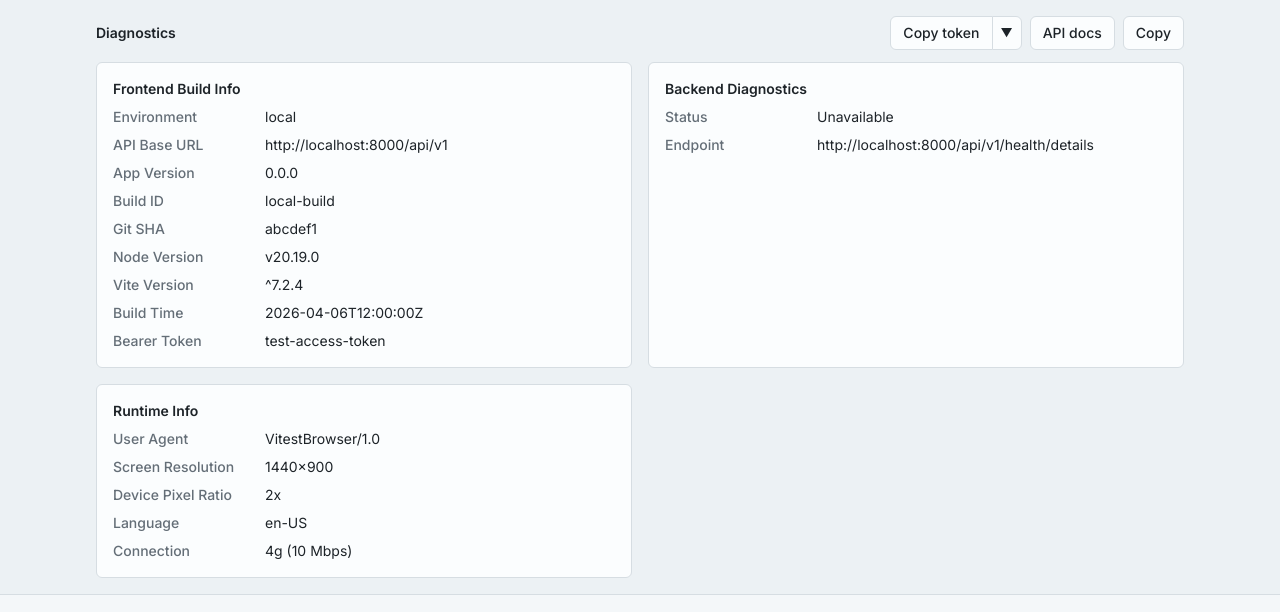
Test: ColophonPanel › requests the configured audience for displayed and copied tokens
expect the text "test-access-token" is shown: met, box [265, 332, 386, 349]
Click the button "Copy token" at (941, 33), box [890, 16, 992, 50]
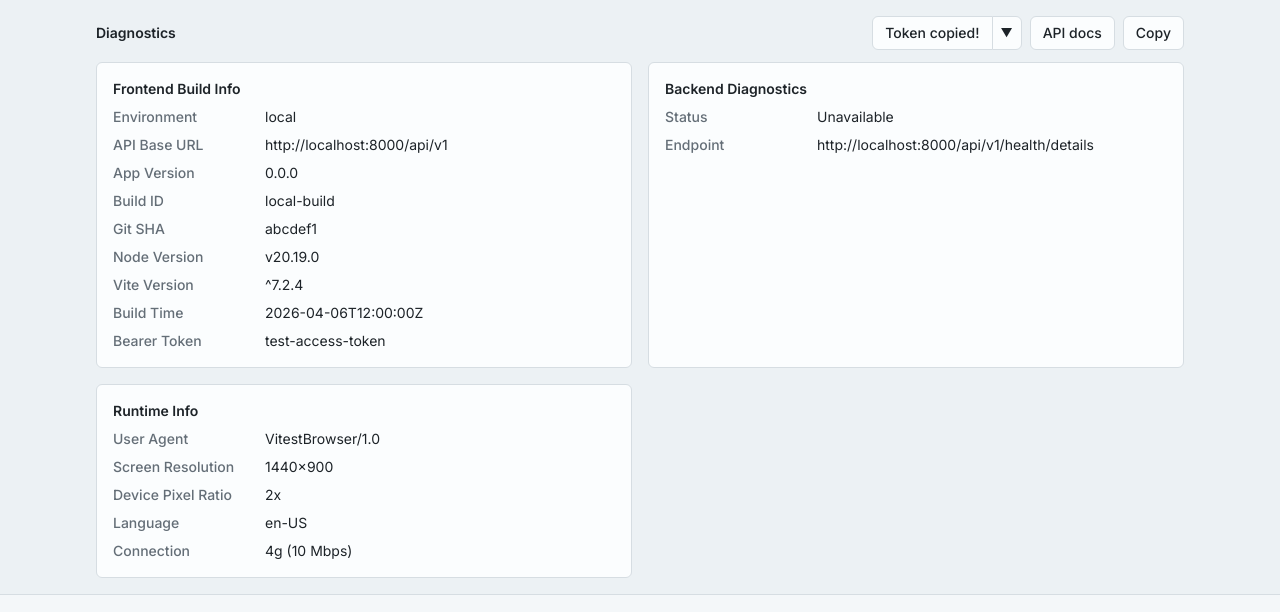
expect the button "Token copied!" is shown: met, box [872, 16, 993, 50]
